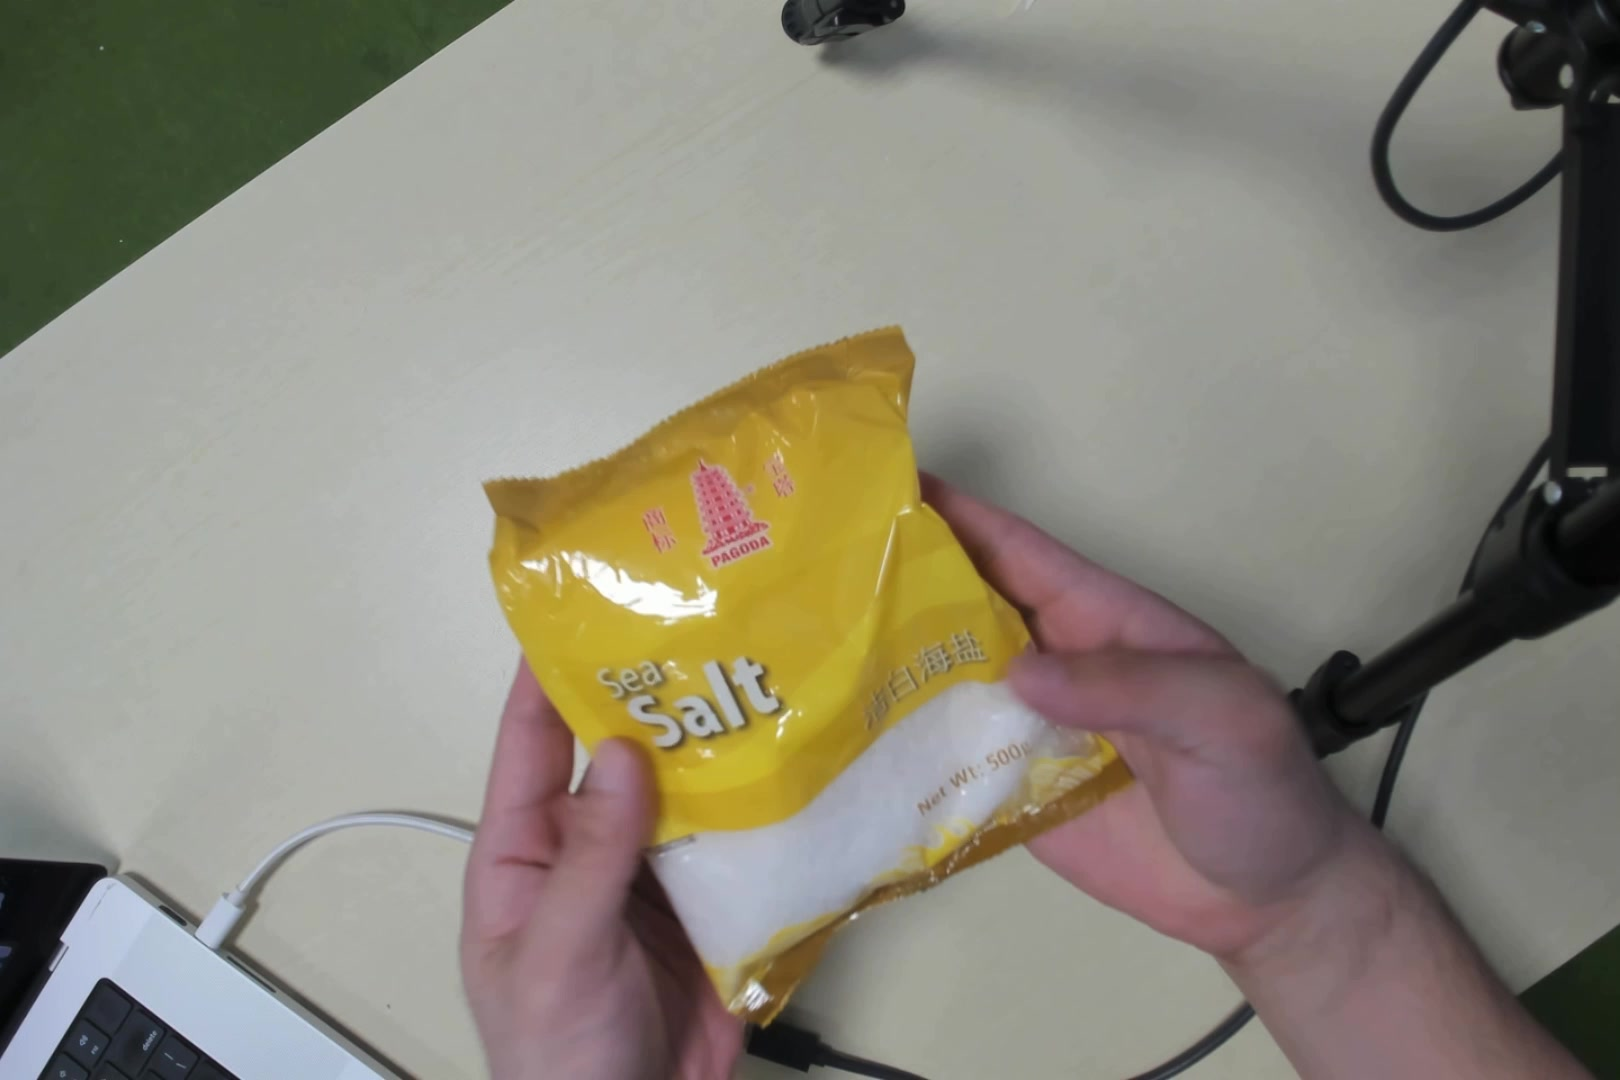Salt_500-599g_Halal_NonHealthy: (547, 391, 1061, 953)
